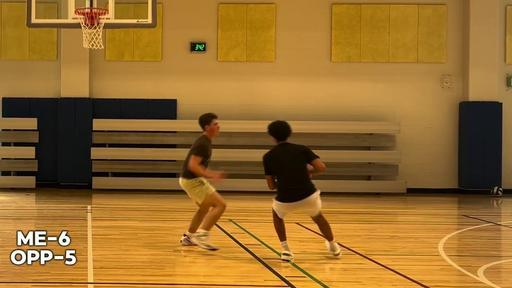human: (262, 120, 341, 260), (178, 112, 226, 252)
rim: (76, 7, 108, 50)
